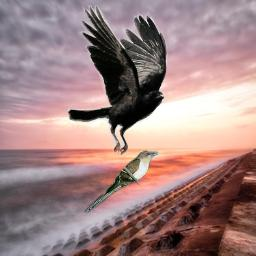Crow: (67, 5, 169, 158)
Cuckoo: (83, 150, 160, 215)
